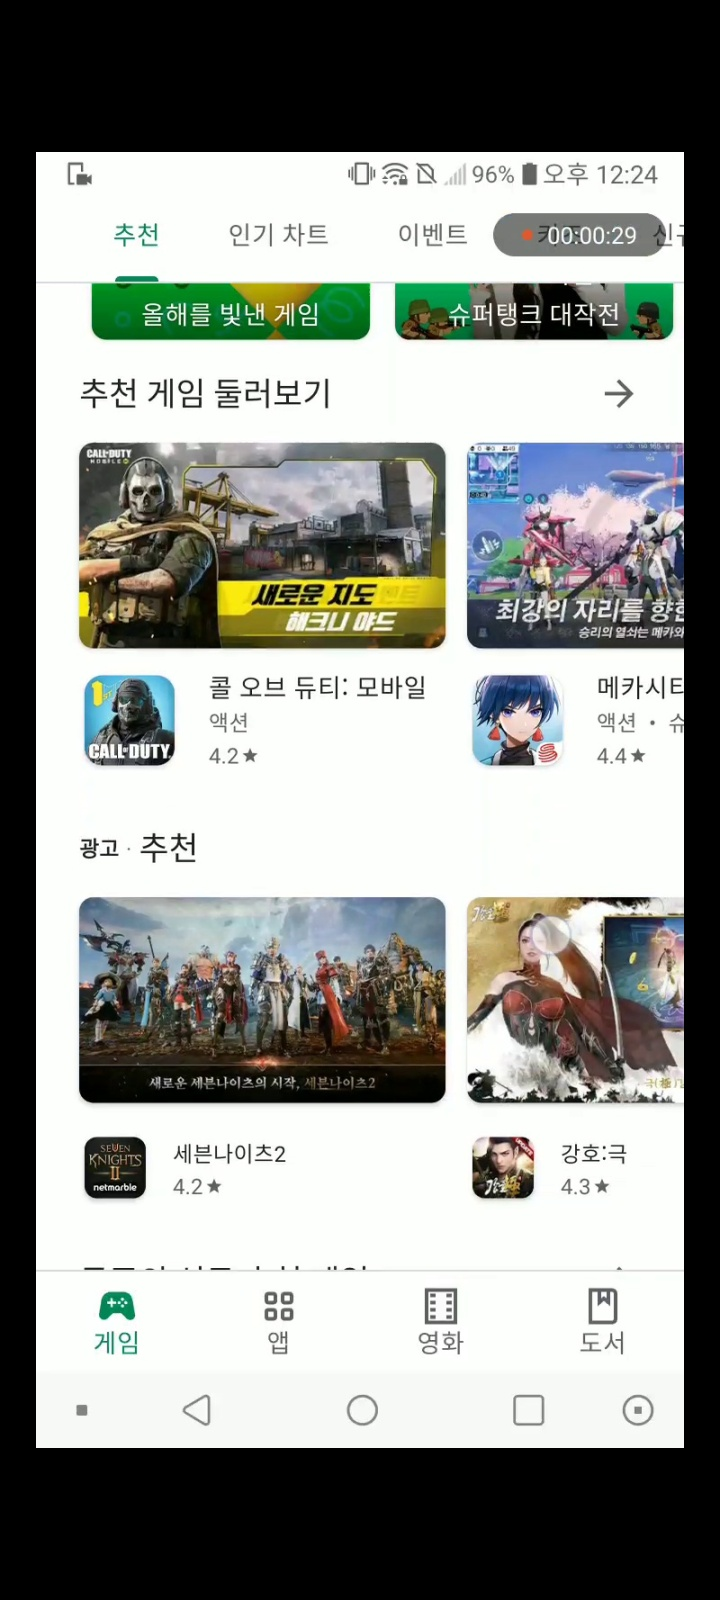Cursor: (529, 913, 574, 958)
